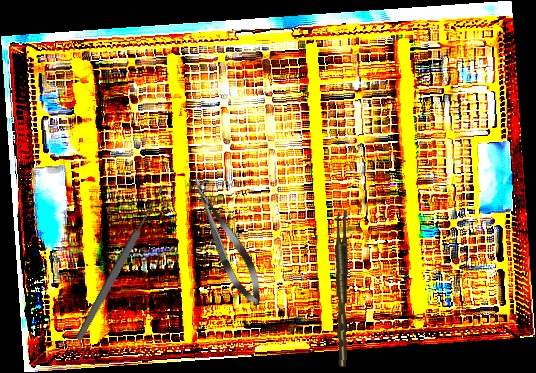Micro Scissor: (182, 170, 271, 312)
Surgical Spoon: (73, 184, 168, 342)
Tissue Forceps: (331, 209, 352, 368)
